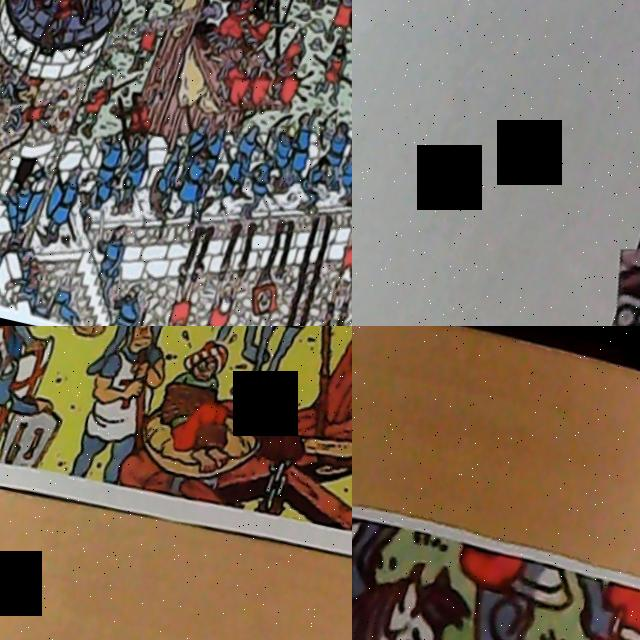waldo: (592, 240, 640, 326)
